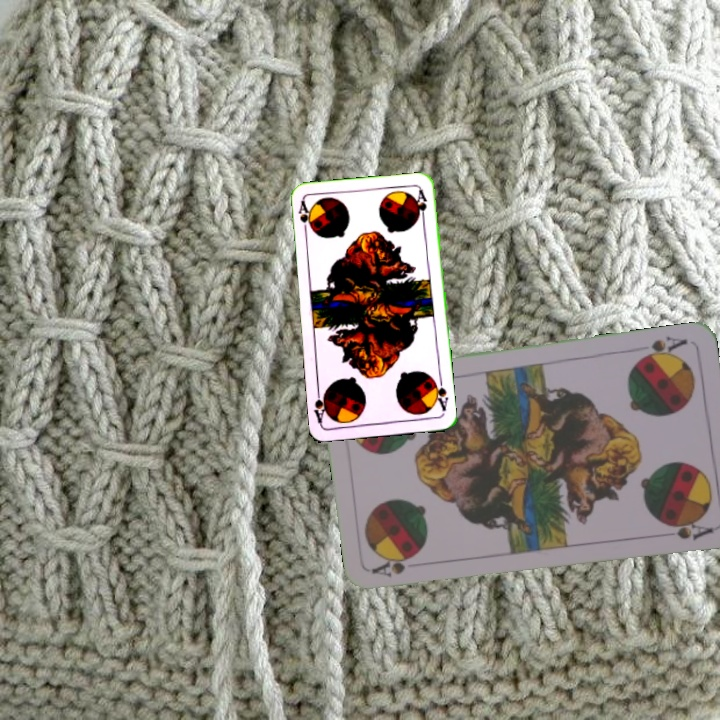SA: (633, 332, 690, 364), (369, 554, 416, 580), (429, 374, 451, 414), (294, 197, 315, 238)
